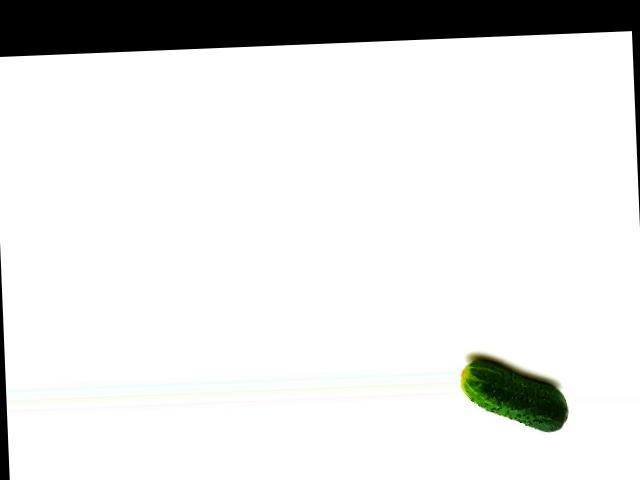cucumber: (459, 356, 568, 435)
